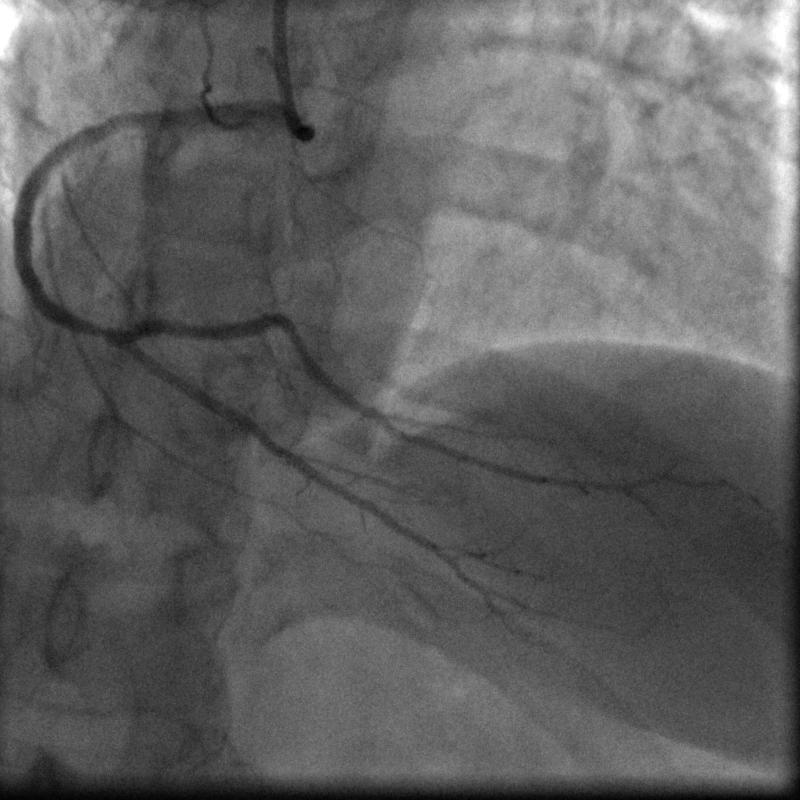Stenosis: (88, 317, 123, 351)
